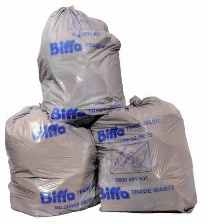plastic_bag: (87, 92, 202, 215), (32, 4, 134, 128), (1, 100, 98, 220)
